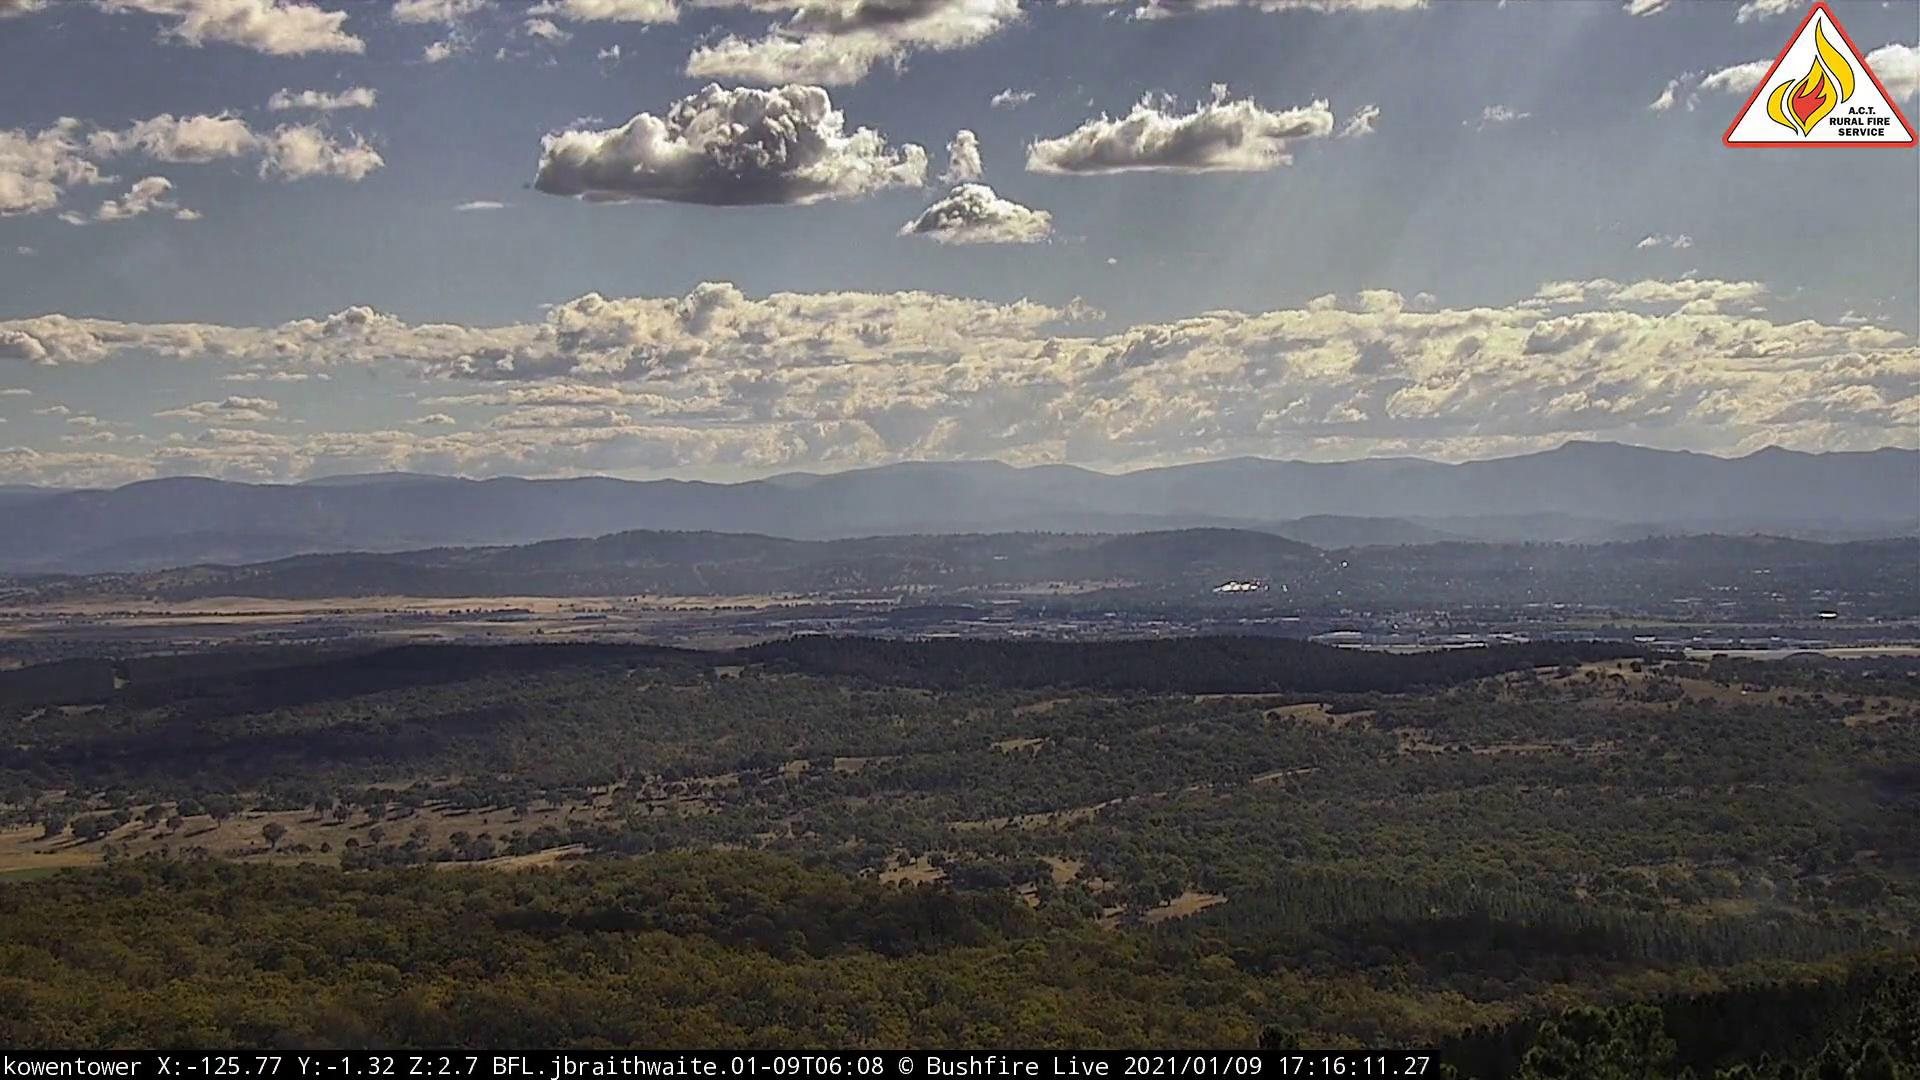instance_salient_object: (880, 539, 992, 605)
